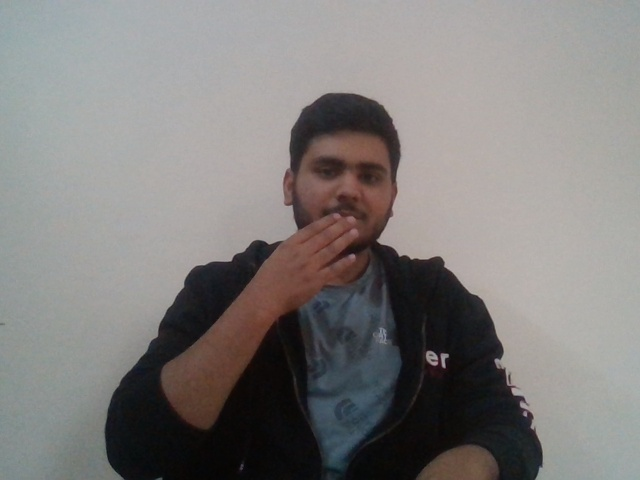Thanks: (244, 200, 437, 306)
